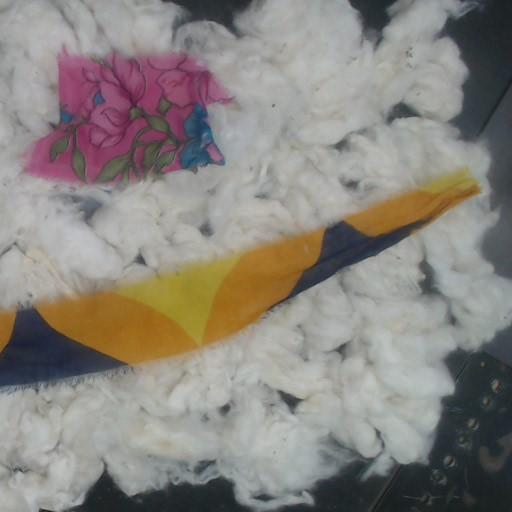cloth: (0, 171, 479, 386), (26, 54, 233, 184)
conveyor belt: (275, 325, 511, 511), (443, 0, 511, 278), (69, 471, 250, 511), (174, 0, 248, 31), (351, 0, 393, 39), (390, 104, 415, 119)
